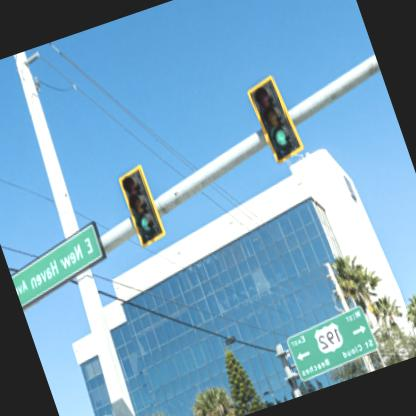trafficlight: (243, 68, 309, 164), (115, 161, 170, 248)
